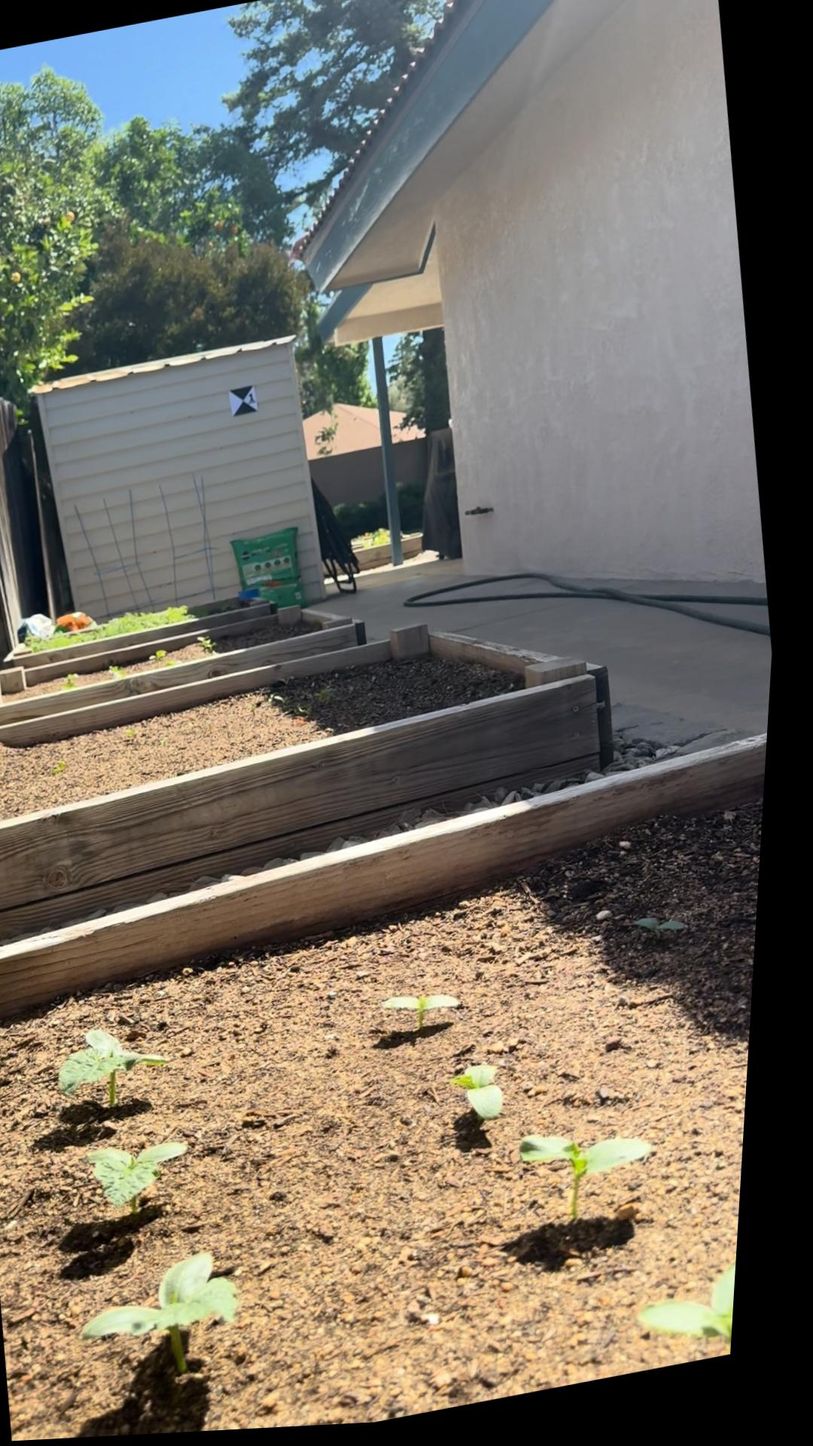target1: (225, 384, 262, 417)
